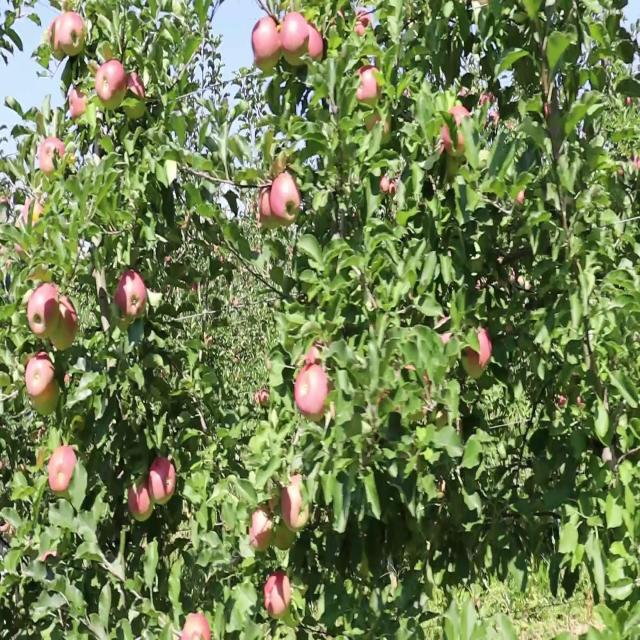apple: (25, 351, 59, 416), (294, 362, 328, 422), (28, 282, 59, 338), (281, 473, 309, 531), (280, 11, 309, 66), (251, 16, 280, 71), (270, 171, 300, 224), (50, 296, 78, 351), (95, 60, 126, 109), (114, 269, 146, 316), (461, 329, 491, 378), (48, 444, 76, 493), (25, 351, 55, 396), (264, 571, 291, 618), (149, 458, 176, 504), (59, 11, 85, 56), (30, 378, 59, 416), (128, 480, 154, 522), (356, 64, 381, 104), (39, 136, 65, 174), (249, 509, 272, 551), (39, 136, 65, 173), (258, 187, 279, 229), (181, 613, 211, 640), (48, 16, 65, 60), (365, 111, 391, 138), (479, 91, 500, 123), (272, 522, 296, 550), (68, 87, 88, 120), (20, 198, 44, 224), (126, 71, 145, 102), (308, 24, 324, 60), (449, 104, 470, 127), (354, 9, 371, 36), (28, 264, 51, 281), (380, 176, 398, 196), (305, 344, 320, 367), (365, 111, 381, 131), (441, 124, 452, 153), (382, 113, 391, 142), (556, 393, 568, 409), (435, 316, 450, 328), (475, 278, 488, 291), (440, 331, 452, 344), (458, 133, 465, 153)
